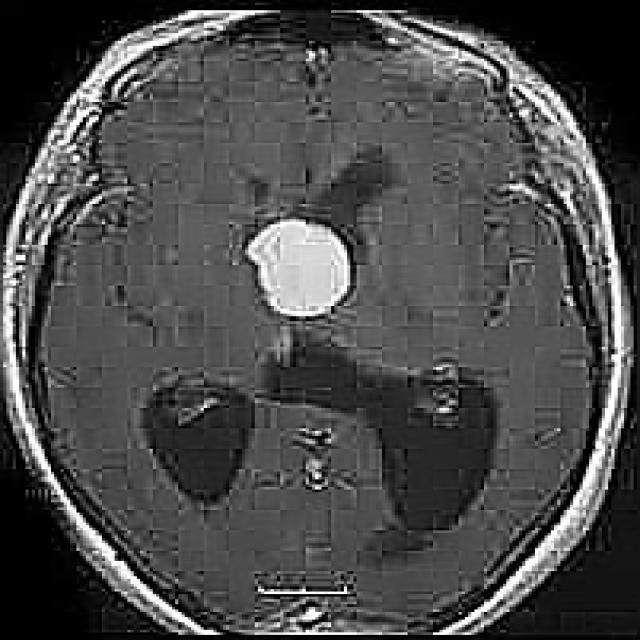Tumor-Cell: (238, 191, 370, 321)
